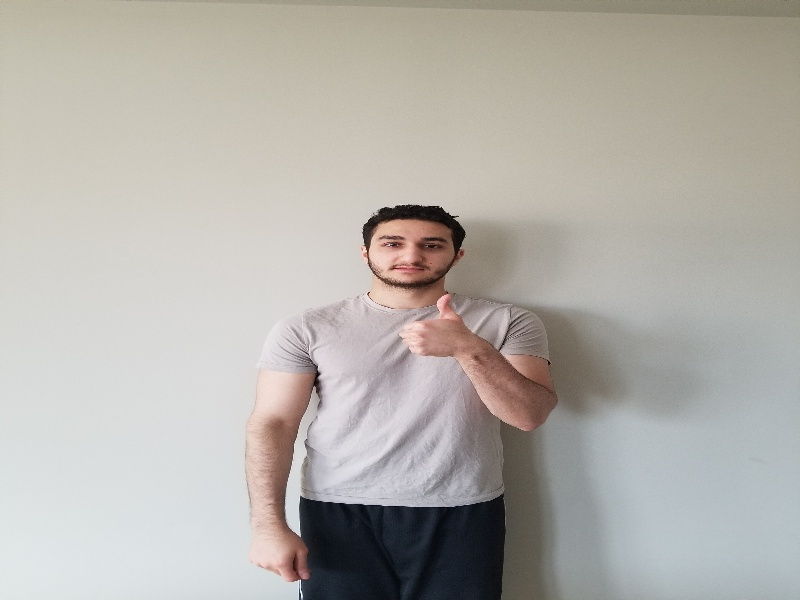thumbup: (399, 290, 469, 360)
